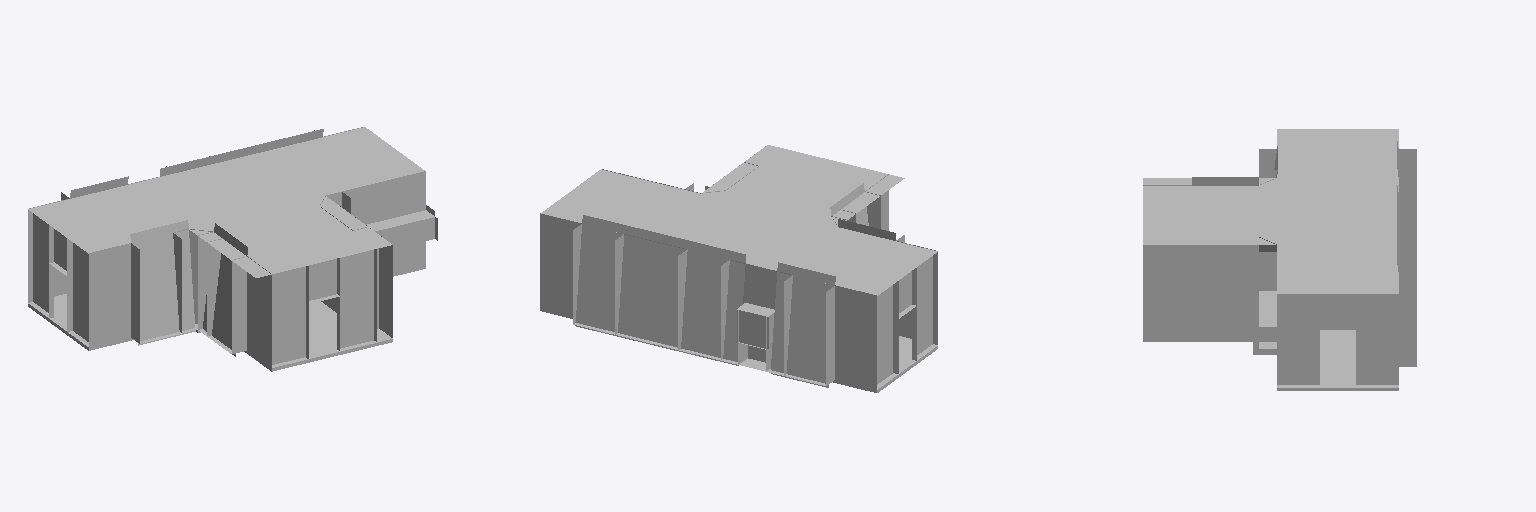
Rendered from LC_room3_2.obj.
The picture shows the model from 3 angles: view 1: azimuth 30°, elevation 25°; view 2: azimuth 150°, elevation 25°; view 3: azimuth 270°, elevation 25°; orthographic projection.
Visible parts, largest first — view 1: LC_room3_2; view 2: LC_room3_2; view 3: LC_room3_2.
Boxes of the visible parts, box(x1,y1,x2,y2) form: LC_room3_2: box(28, 127, 437, 371); LC_room3_2: box(540, 145, 937, 392); LC_room3_2: box(1143, 129, 1416, 390).
Bounding box in the file's own units: 20.49 × 6.2 × 14.4.